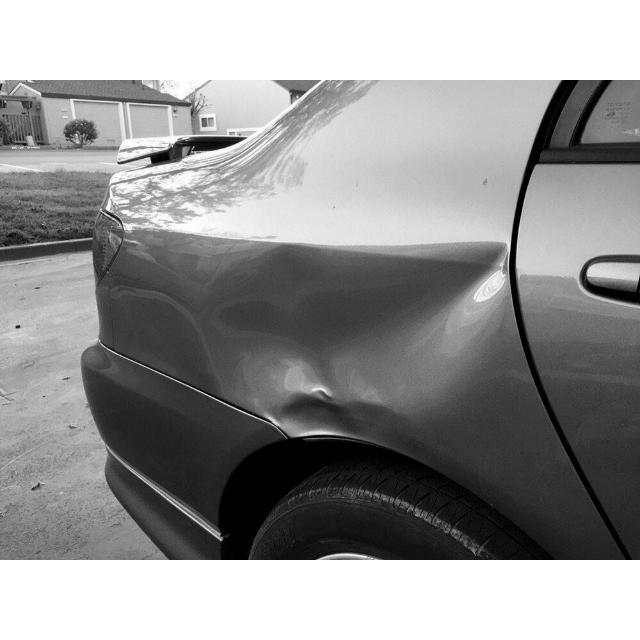quaterpanel-dent: (255, 184, 523, 525)
